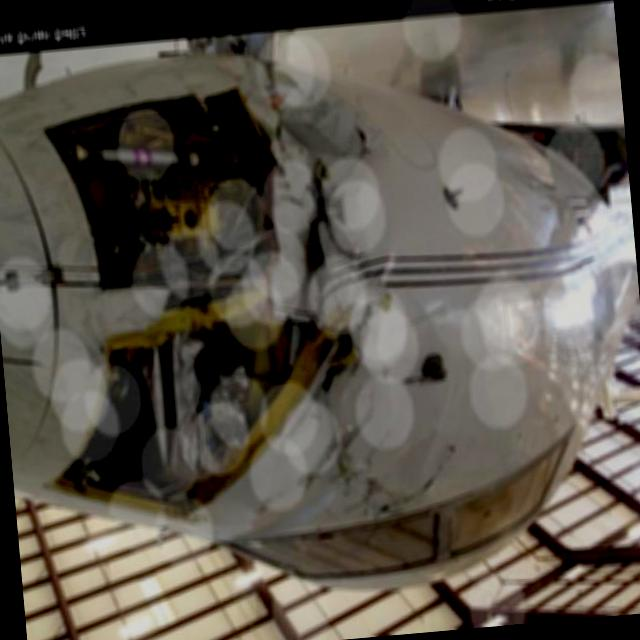crack: (370, 436, 463, 514)
